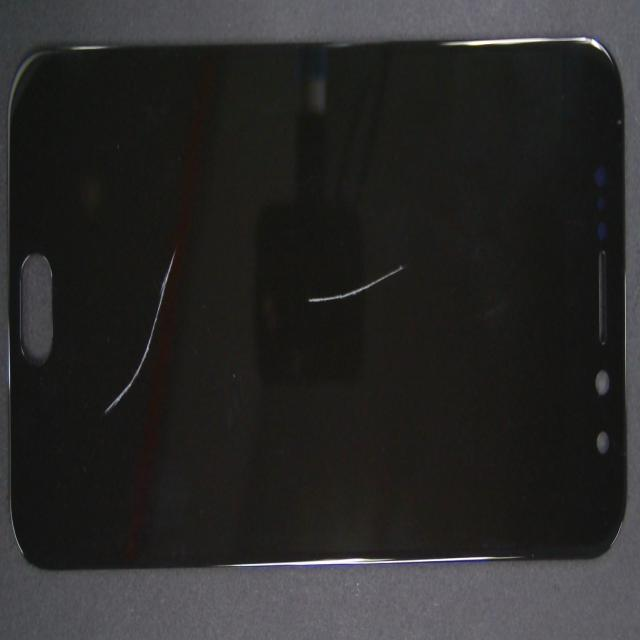Scratches: (98, 236, 190, 437), (302, 253, 415, 325)
